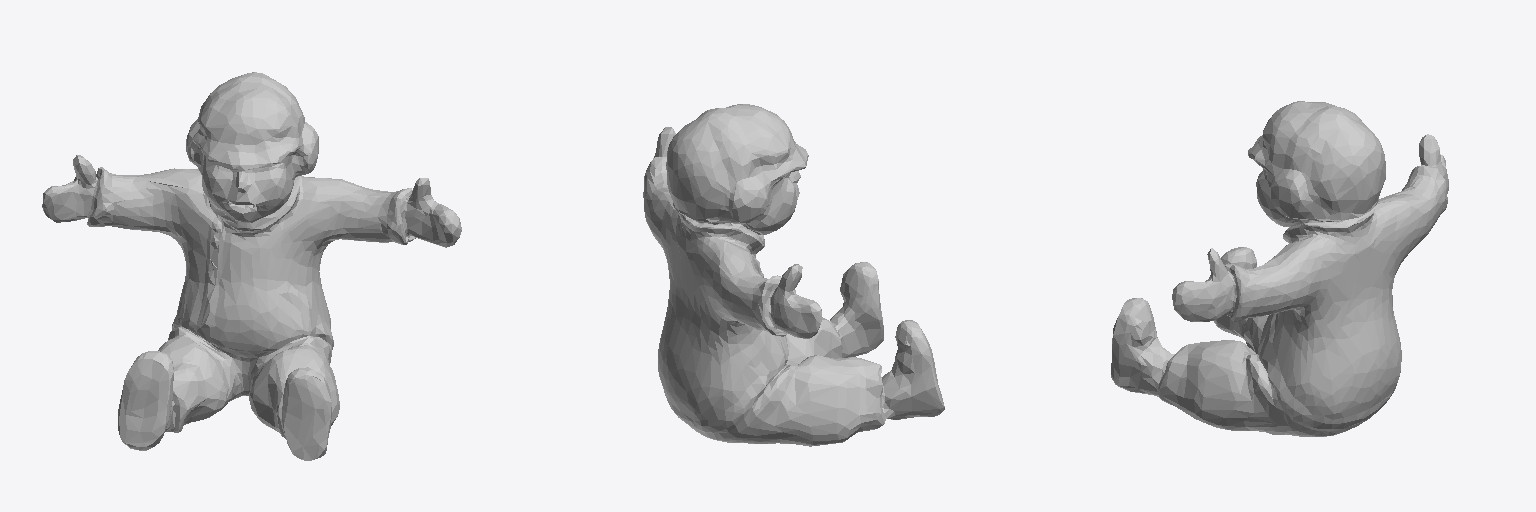
File: keko.obj
3 renders of one model, left to right at view 1: azimuth 30°, elevation 25°; view 2: azimuth 150°, elevation 25°; view 3: azimuth 270°, elevation 25°, orthographic.
Size of the model in its own units: 0.6645 by 0.6373 by 0.6237.